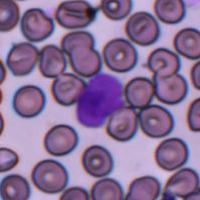M: (76, 70, 125, 128)
